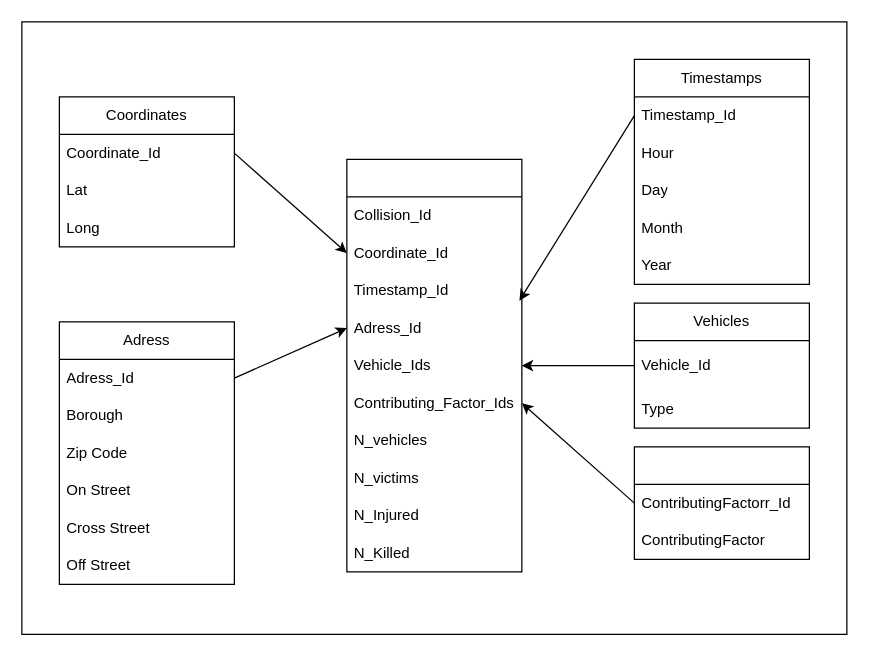
Some shapes in this 869 by 656 pixel diagram are drawn without their labels. The box of each missing label's shape, as (x1, y1, x2, y2) in pixels:
ContributingFactors: (633, 446, 809, 559)
FACT_Accident: (346, 158, 522, 572)
